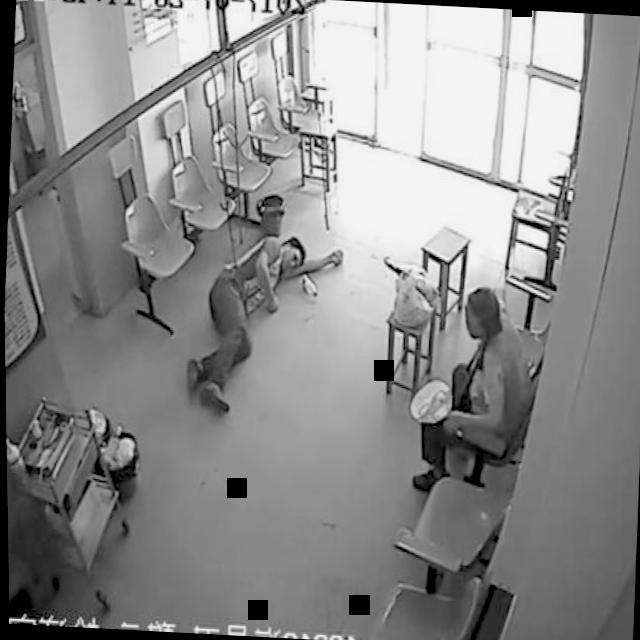Fall-Detected: (175, 206, 351, 423)
